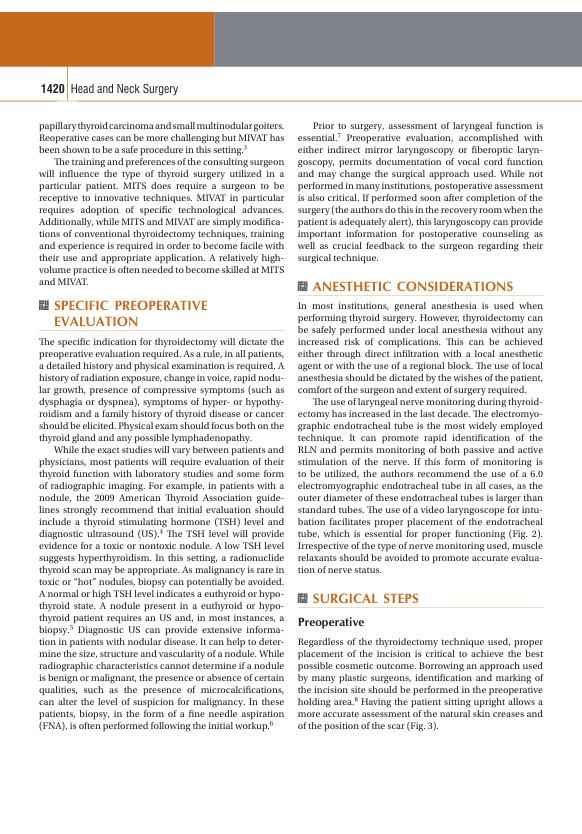header: (70, 82, 179, 97)
section-heading: (52, 299, 208, 327), (311, 279, 514, 293), (312, 592, 420, 604)
sub-section-heading: (297, 616, 365, 630)
text: (37, 335, 288, 734), (296, 300, 545, 575), (38, 120, 287, 287), (296, 120, 545, 265), (296, 635, 544, 733)
